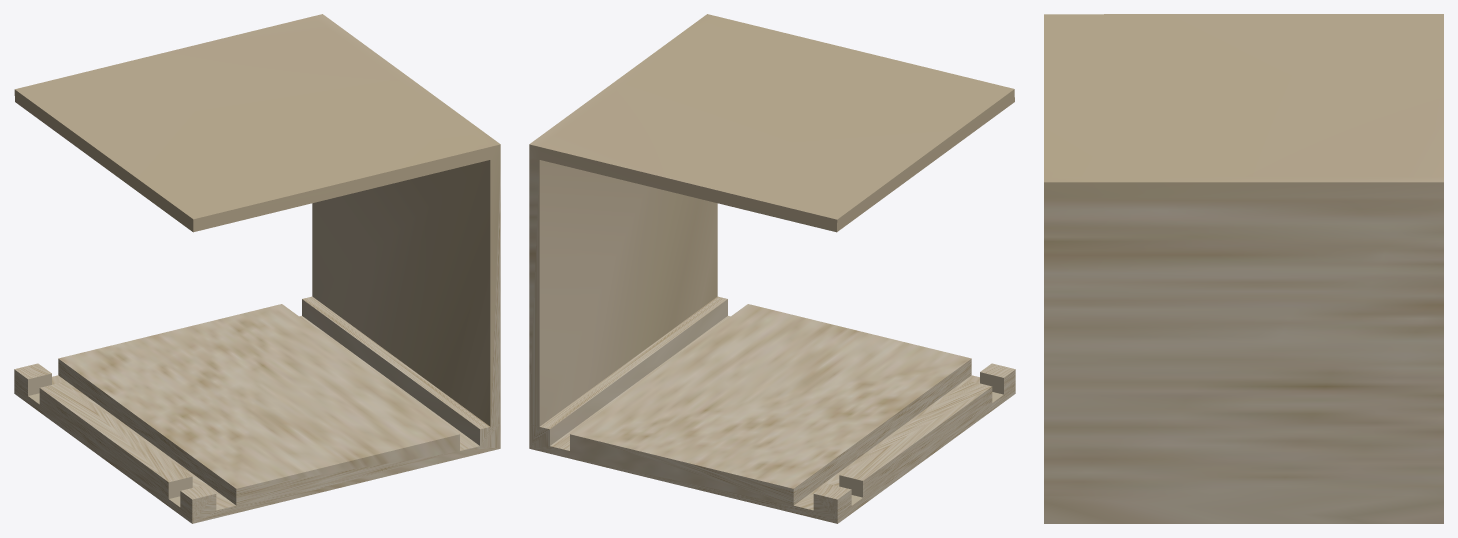
Rendered from SepBox.gltf.
3 views of the same model, side by side, from view 1: azimuth 30°, elevation 25°; view 2: azimuth 150°, elevation 25°; view 3: azimuth 270°, elevation 25° (orthographic). The views are drawn at different scales.
Parts seen in each view (by area): view 1: Cube.002; view 2: Cube.002; view 3: Cube.002.
Part boxes in pixels (x1,y1,x2,y2): Cube.002: (14,14,500,523); Cube.002: (529,14,1015,523); Cube.002: (1044,14,1443,523).
Bounding box in the file's own units: 8 × 7.55 × 8.
Materials: 1 (1 with a texture image).
